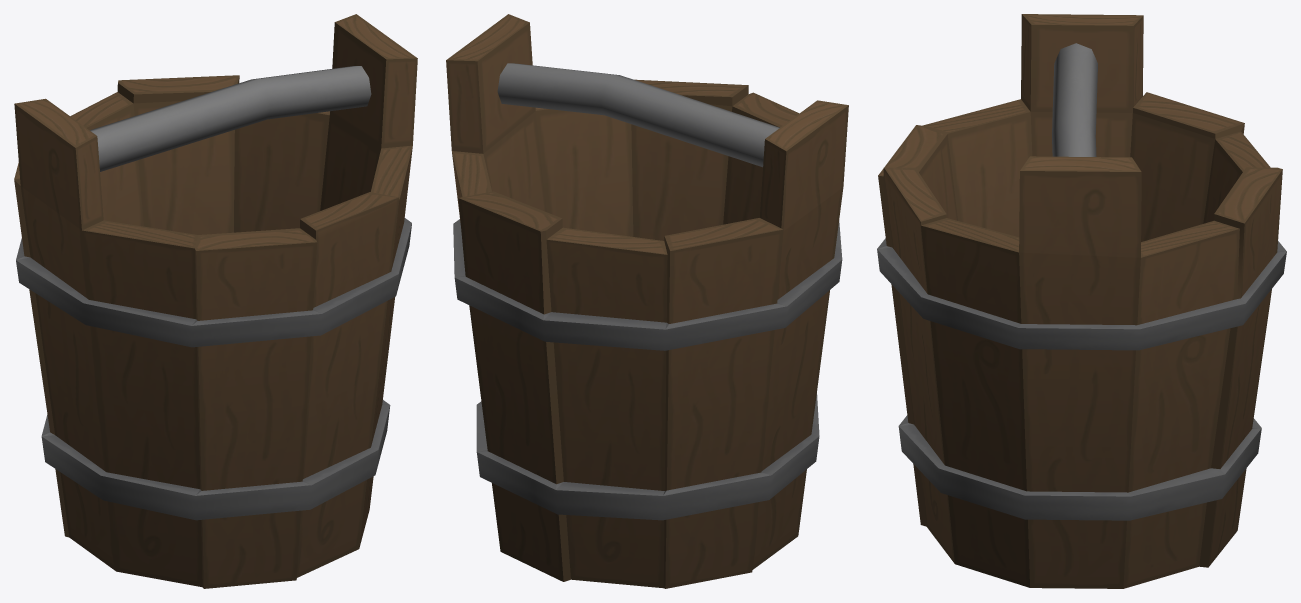
The model's file is bucket_MESH_04.fbx.
3 views of the same model, side by side, from view 1: azimuth 30°, elevation 25°; view 2: azimuth 150°, elevation 25°; view 3: azimuth 270°, elevation 25° (orthographic).
Visible parts, largest first — view 1: BucketMESH_02; view 2: BucketMESH_02; view 3: BucketMESH_02.
Part boxes in pixels (x1=…): BucketMESH_02: x1=14, y1=14, x2=417, y2=588; BucketMESH_02: x1=446, y1=14, x2=848, y2=588; BucketMESH_02: x1=877, y1=14, x2=1286, y2=588.
Size of the model in its own units: 85.12 by 107 by 89.82.
